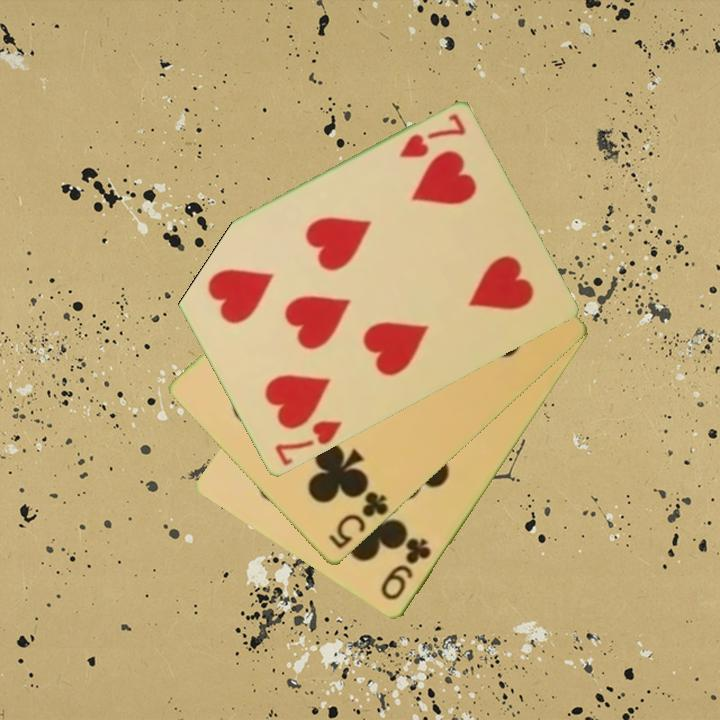5c: (325, 486, 392, 553)
7h: (271, 417, 345, 470), (395, 110, 469, 162)
9c: (377, 534, 434, 604)
